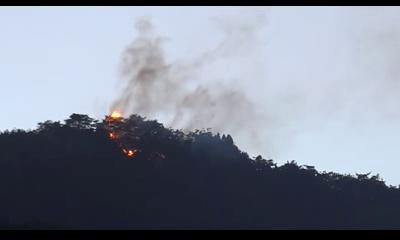smoke: (141, 71, 202, 109)
